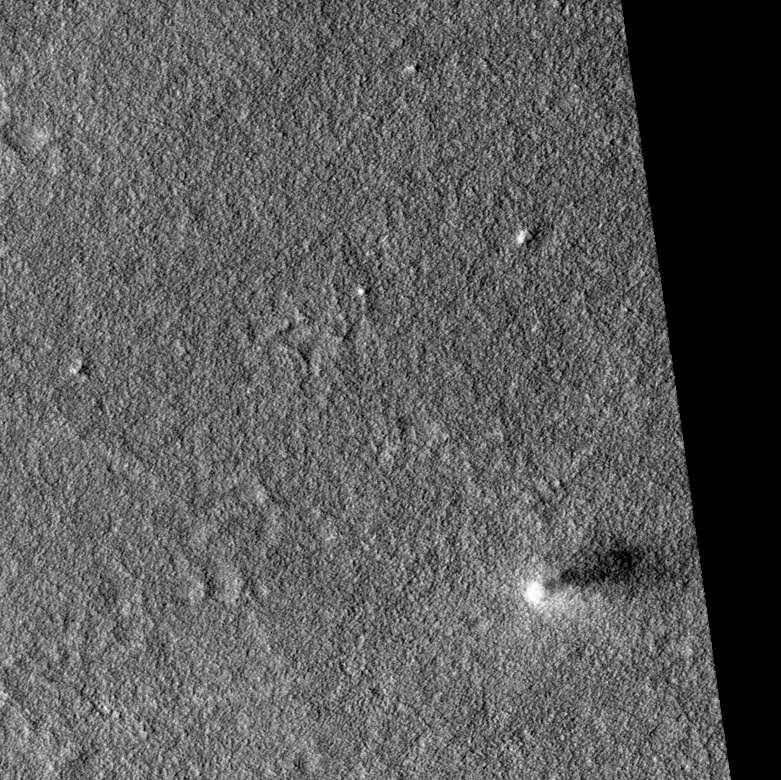dust_devil: (519, 527, 690, 608)
